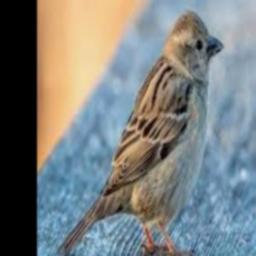Sparrow: (58, 9, 224, 256)
